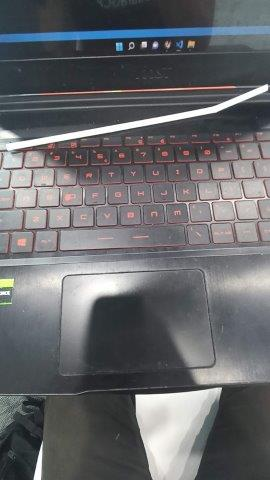sedotan: (7, 85, 268, 150)
